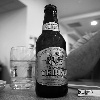beer: (38, 3, 73, 100)
